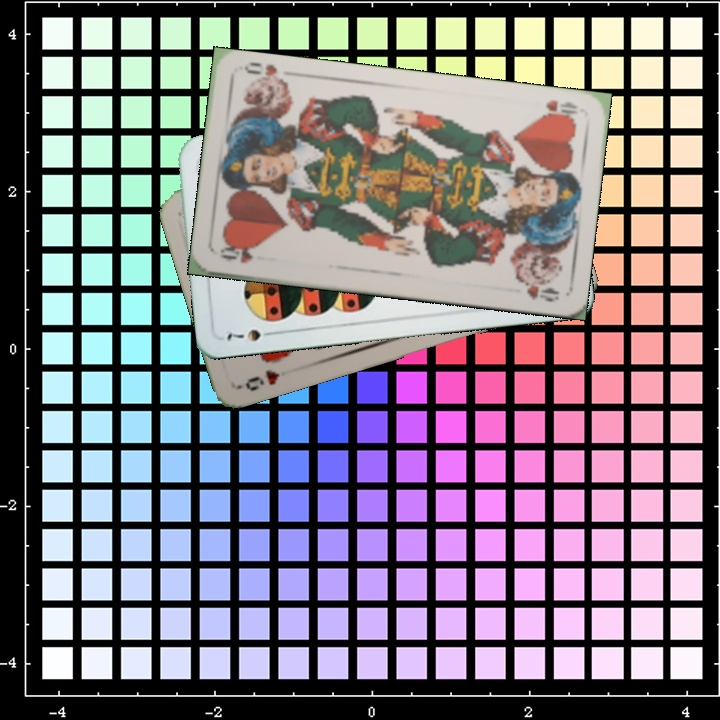H9: (241, 366, 282, 394)
HO: (534, 95, 581, 123), (216, 242, 255, 266)
S7: (222, 325, 280, 345)
